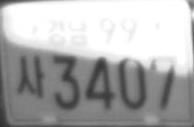0: (117, 56, 147, 110)
3: (52, 54, 80, 110)
4: (85, 56, 116, 110)
7: (149, 55, 178, 110)
9: (97, 16, 117, 42), (120, 16, 138, 42)
경남_H: (46, 17, 88, 46)
사: (14, 53, 46, 98)
